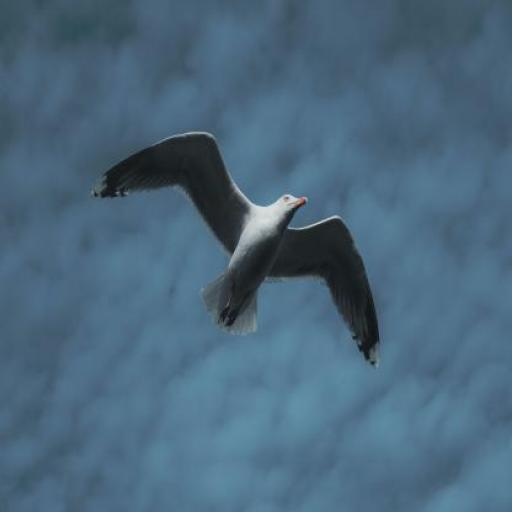bird: (93, 130, 382, 369)
